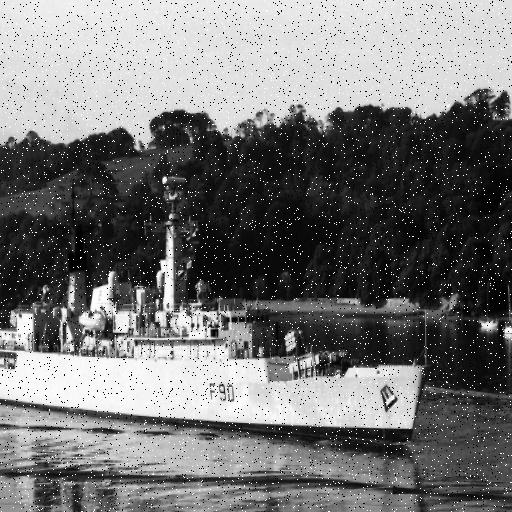Fragata: (1, 168, 434, 448)
